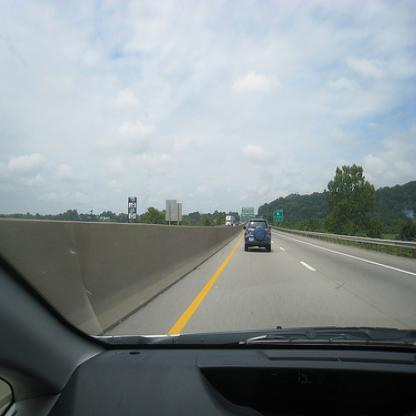car: (242, 217, 272, 252)
